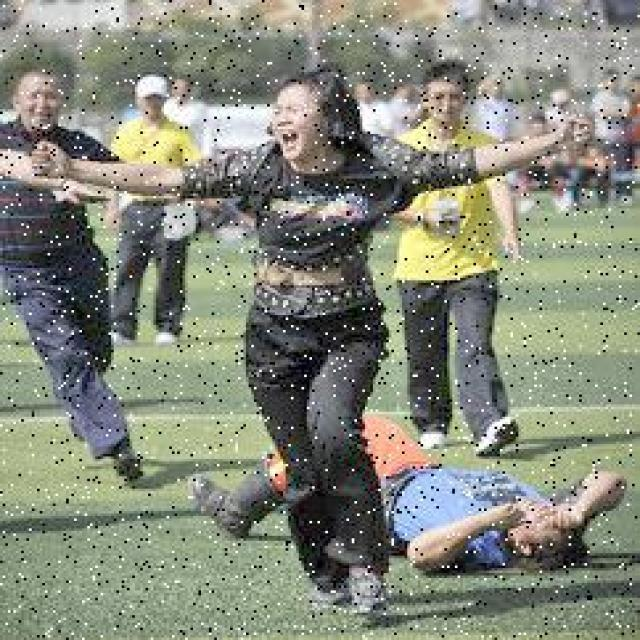fall: (188, 412, 616, 566)
